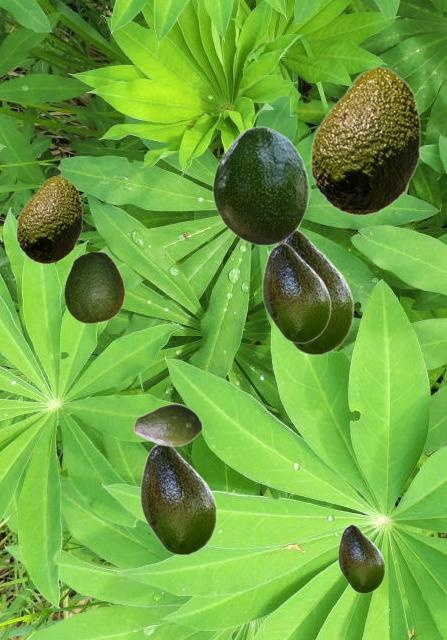avocado: (310, 66, 419, 215), (212, 126, 308, 245), (285, 229, 353, 354), (140, 444, 216, 554), (262, 242, 330, 342), (16, 175, 81, 263), (64, 251, 124, 322), (338, 524, 384, 592), (133, 403, 202, 446)
